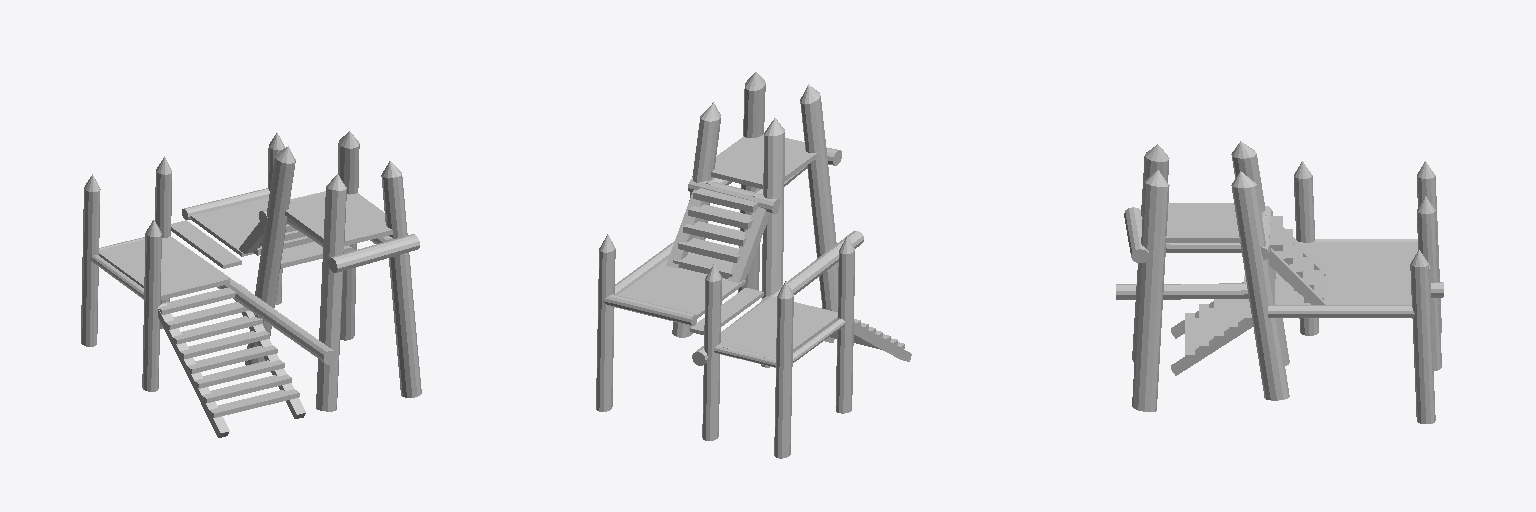
The model's file is EnemyTower.obj.
3 views of the same model, side by side, from view 1: azimuth 30°, elevation 25°; view 2: azimuth 150°, elevation 25°; view 3: azimuth 270°, elevation 25° (orthographic).
Visible parts, largest first — view 1: Cylinder.002_Cylinder.007, Cube.001_Cube.003, Cube.002_Cube.004, Cube_Cube.002, Cylinder.005_Cylinder.012, Cube.003_Cube.005, Cylinder.003_Cylinder.011, Cube.004_Cube.006; view 2: Cylinder.002_Cylinder.007, Cube.002_Cube.004, Cube.004_Cube.006, Cube_Cube.002, Cylinder.005_Cylinder.012, Cube.003_Cube.005, Cylinder.003_Cylinder.011; view 3: Cylinder.002_Cylinder.007, Cube.002_Cube.004, Cylinder.005_Cylinder.012, Cube_Cube.002, Cube.001_Cube.003, Cube.004_Cube.006, Cube.003_Cube.005.
Part boxes in pixels (x1,y1,x2,y2): Cylinder.002_Cylinder.007: (81, 131, 421, 411); Cube.001_Cube.003: (159, 284, 299, 417); Cube.002_Cube.004: (210, 193, 392, 268); Cube_Cube.002: (99, 236, 229, 299); Cylinder.005_Cylinder.012: (158, 198, 305, 437); Cube.003_Cube.005: (171, 211, 253, 268); Cylinder.003_Cylinder.011: (182, 188, 269, 219); Cube.004_Cube.006: (253, 191, 325, 255); Cylinder.002_Cylinder.007: (596, 72, 863, 458); Cube.002_Cube.004: (618, 132, 817, 309); Cube.004_Cube.006: (673, 188, 758, 278); Cube_Cube.002: (719, 296, 837, 357); Cylinder.005_Cylinder.012: (615, 190, 911, 361); Cube.003_Cube.005: (680, 278, 763, 334); Cylinder.003_Cylinder.011: (603, 294, 696, 325); Cylinder.002_Cylinder.007: (1116, 141, 1443, 423); Cube.002_Cube.004: (1165, 203, 1411, 304); Cylinder.005_Cylinder.012: (1171, 227, 1414, 375); Cube_Cube.002: (1303, 242, 1417, 267); Cube.001_Cube.003: (1185, 271, 1282, 359); Cube.004_Cube.006: (1269, 216, 1323, 302); Cube.003_Cube.005: (1324, 268, 1410, 278).
Bounding box in the file's own units: 8.39 × 10.05 × 12.2.